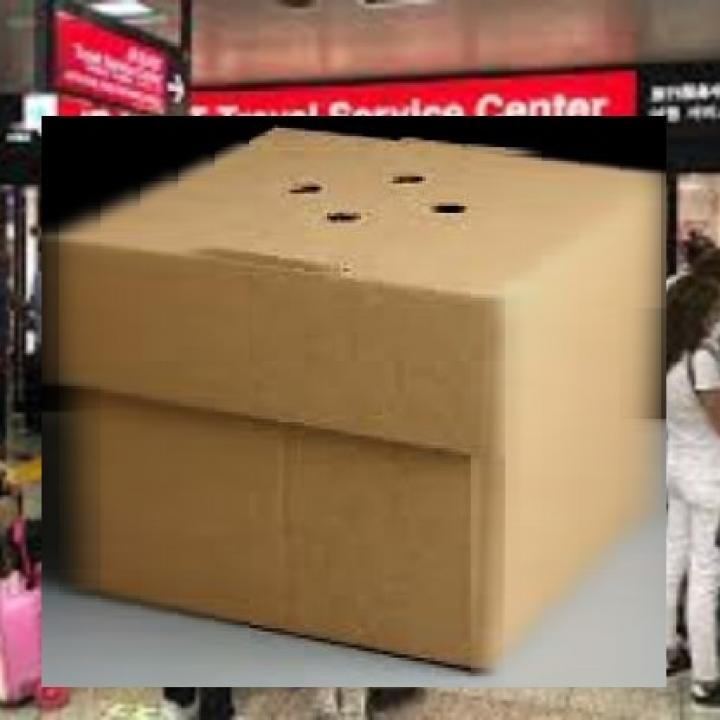box: (32, 108, 678, 698)
